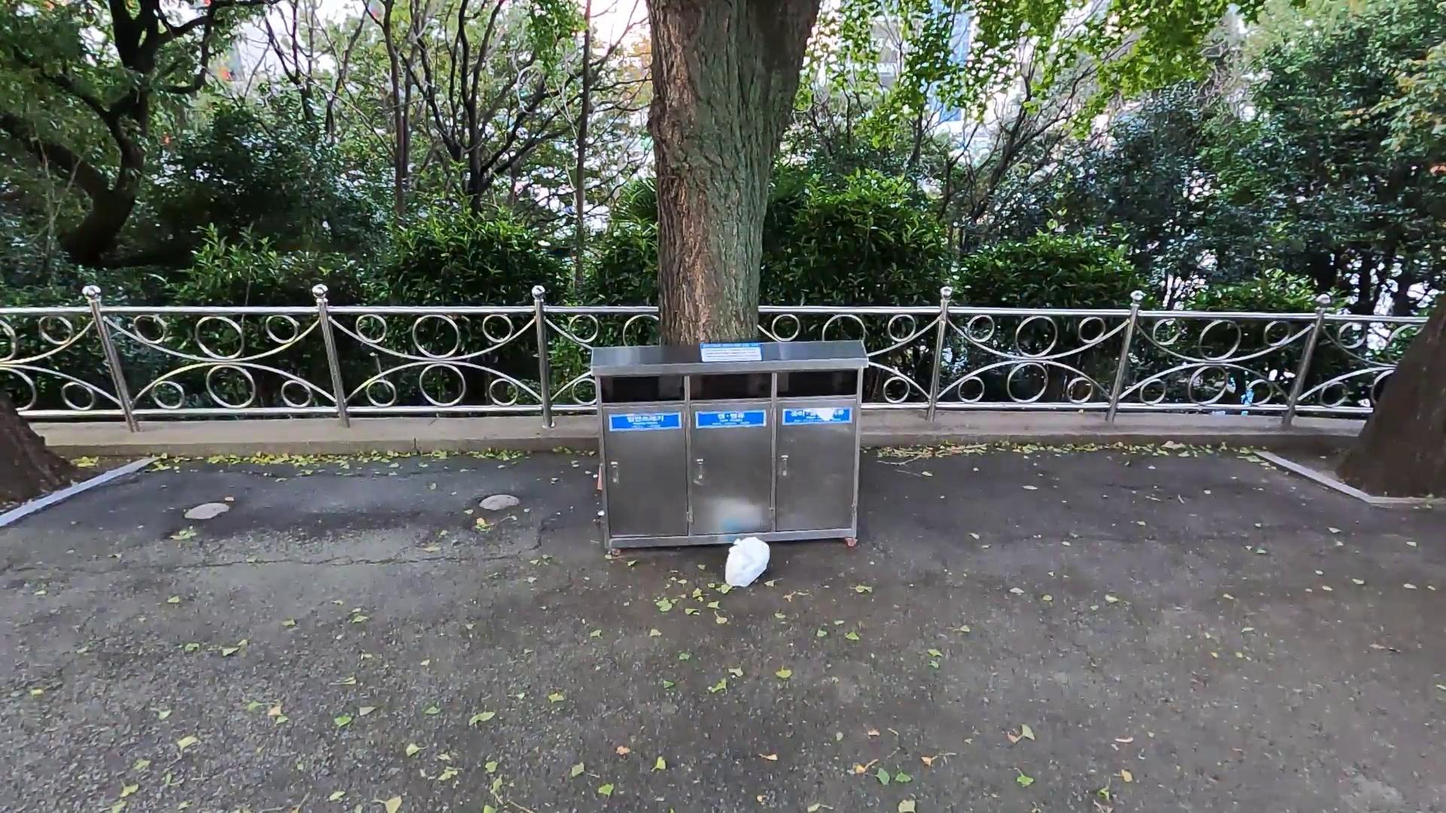trash: (725, 535, 774, 588)
